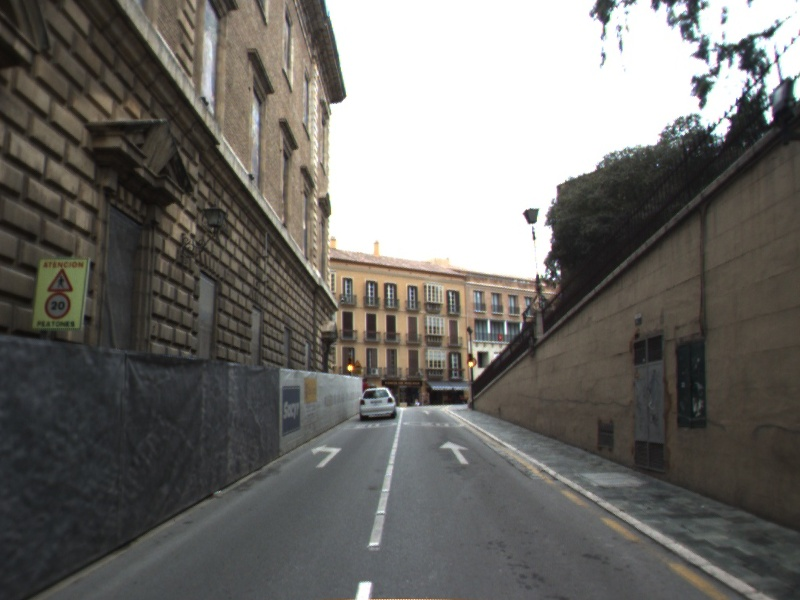LEFT: (309, 443, 344, 470)
STRAIGHT: (437, 439, 472, 466)
